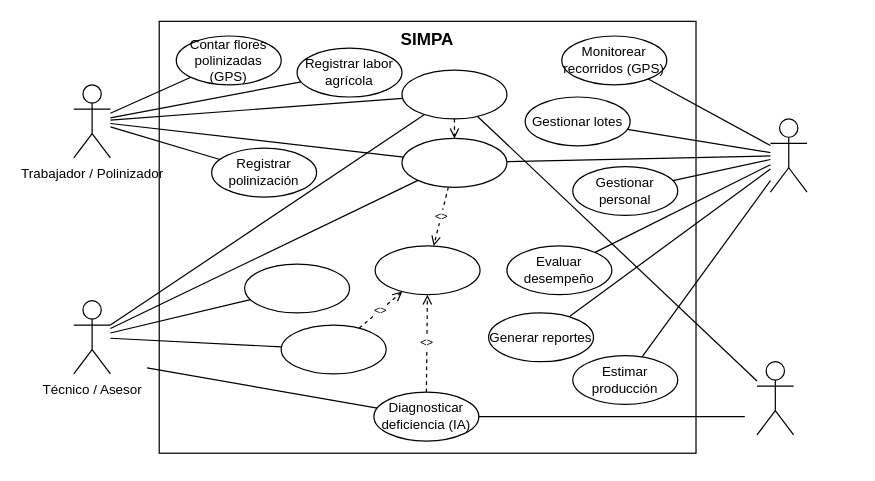
Image size: 875x481. Some labels were removed from this diagram. Here are the shapes that lost their labels. From the top down, the centre of each, then its label:
the point at 454,94: Analizar imagen de plaga (IA)
the point at 454,162: Iniciar sesión
the point at 788,155: Administrador general
the point at 296,288: Registrar análisis de suelo/foliar
the point at 427,270: Generar alerta temprana
the point at 333,349: Registrar monitoreo fitosanitario
the point at 775,398: Servicio de análisis de IA
